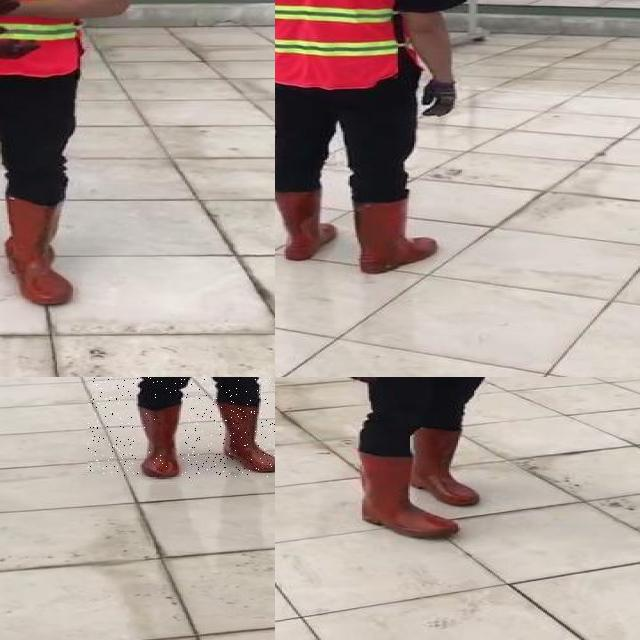boots: (357, 448, 456, 539), (4, 197, 73, 306), (348, 194, 439, 276), (412, 428, 481, 504), (214, 400, 275, 473), (275, 192, 335, 261), (134, 400, 182, 477)
hand_glove: (416, 80, 460, 118), (0, 26, 33, 60)
person: (275, 0, 462, 282), (0, 0, 135, 312), (315, 377, 553, 549), (88, 377, 275, 478)
vest: (275, 0, 407, 90)
